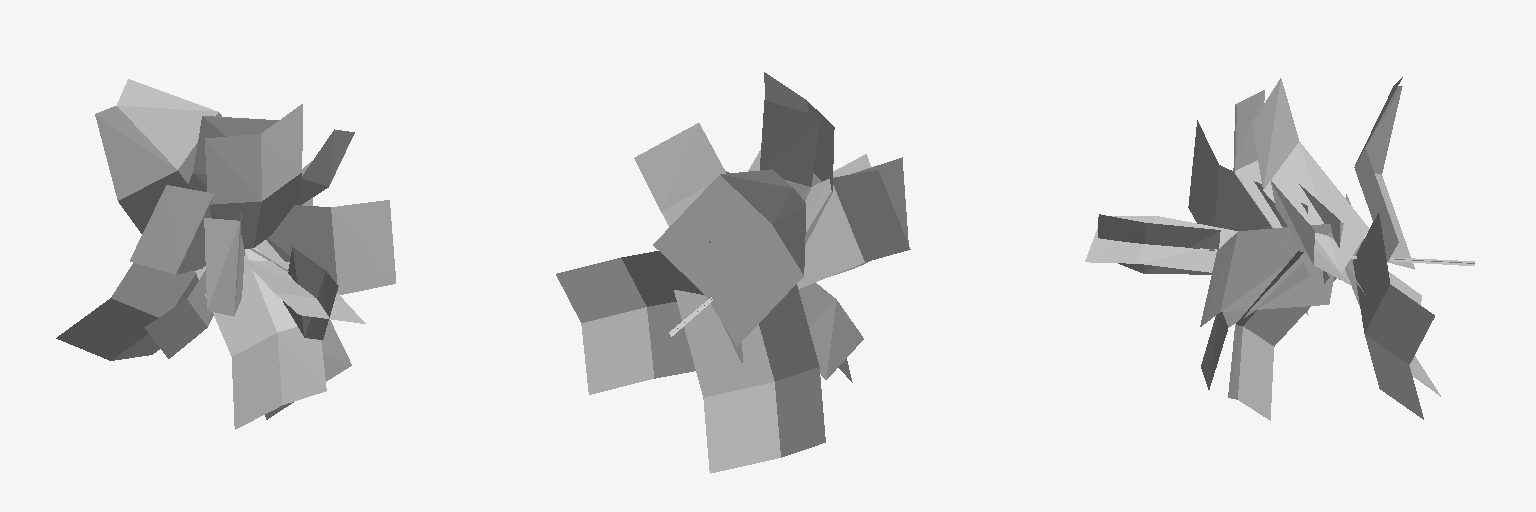
File: vurt_bigfern.obj
3 renders of one model, left to right at view 1: azimuth 30°, elevation 25°; view 2: azimuth 150°, elevation 25°; view 3: azimuth 270°, elevation 25°, orthographic.
Visible parts, largest first — view 1: VolcanicGrassObj02:0; view 2: VolcanicGrassObj02:0; view 3: VolcanicGrassObj02:0.
Boxes of the visible parts, x1=… form: VolcanicGrassObj02:0: x1=56, y1=79, x2=395, y2=429; VolcanicGrassObj02:0: x1=556, y1=72, x2=910, y2=473; VolcanicGrassObj02:0: x1=1085, y1=77, x2=1474, y2=420.
Size of the model in its own units: 75.62 by 86.99 by 94.86.